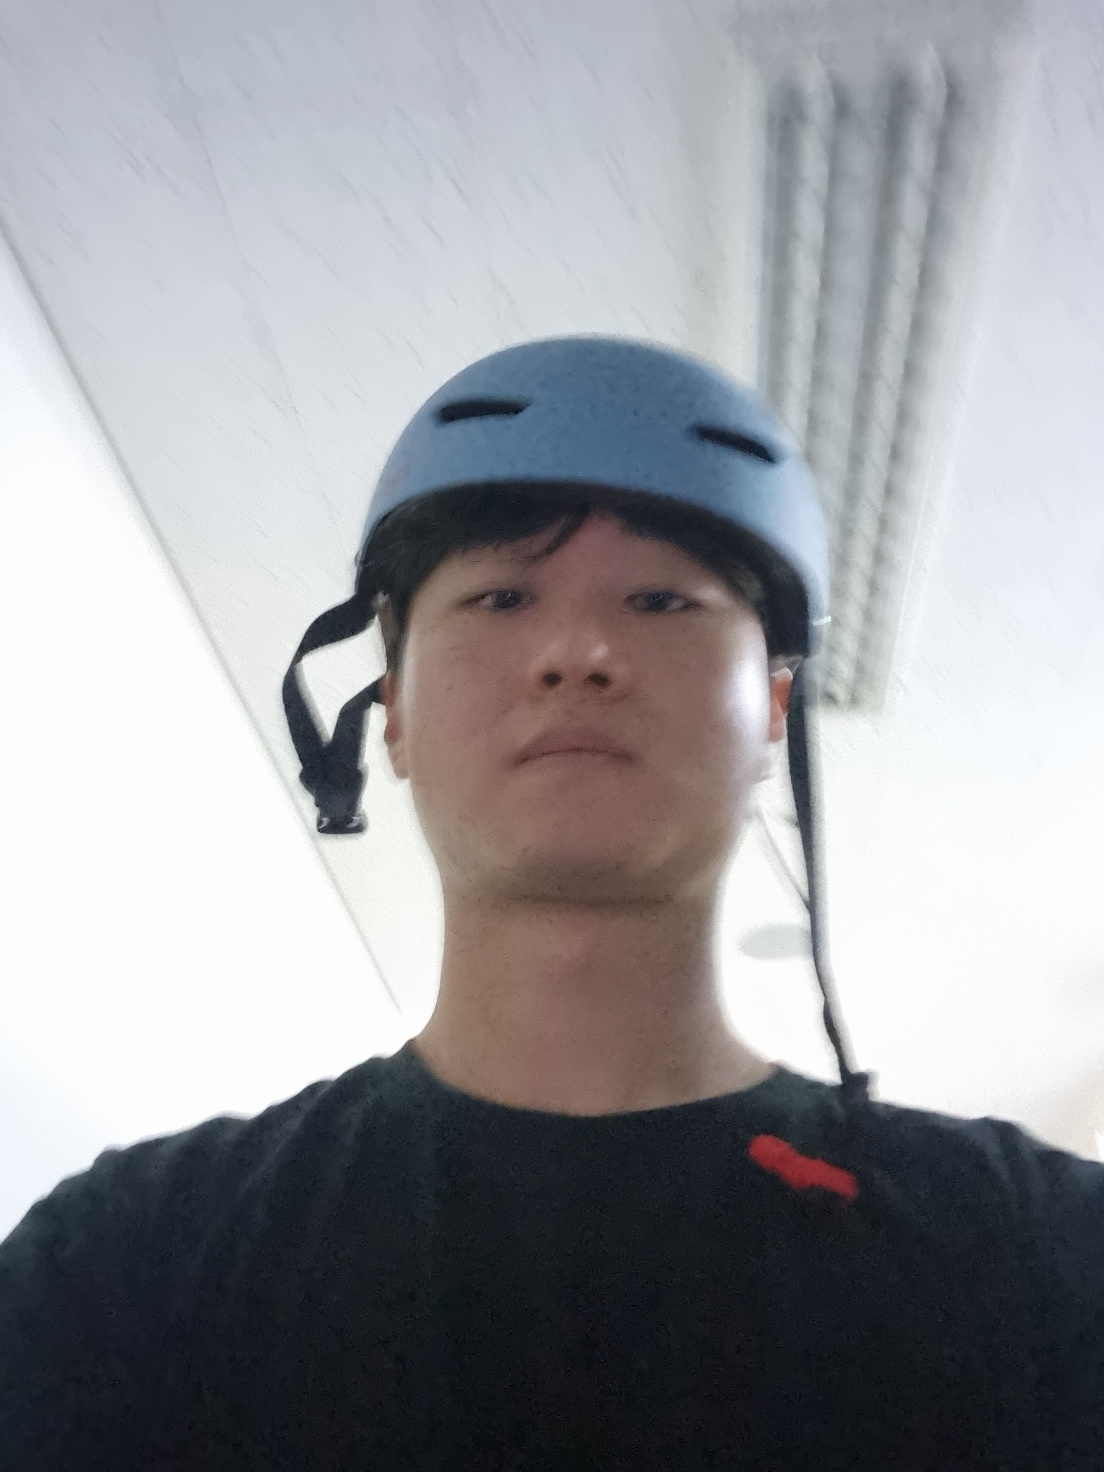Helmet: (290, 299, 884, 959)
